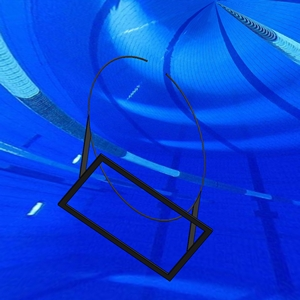circle: (57, 54, 214, 283)
